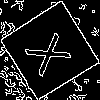X: (24, 25, 81, 78)
